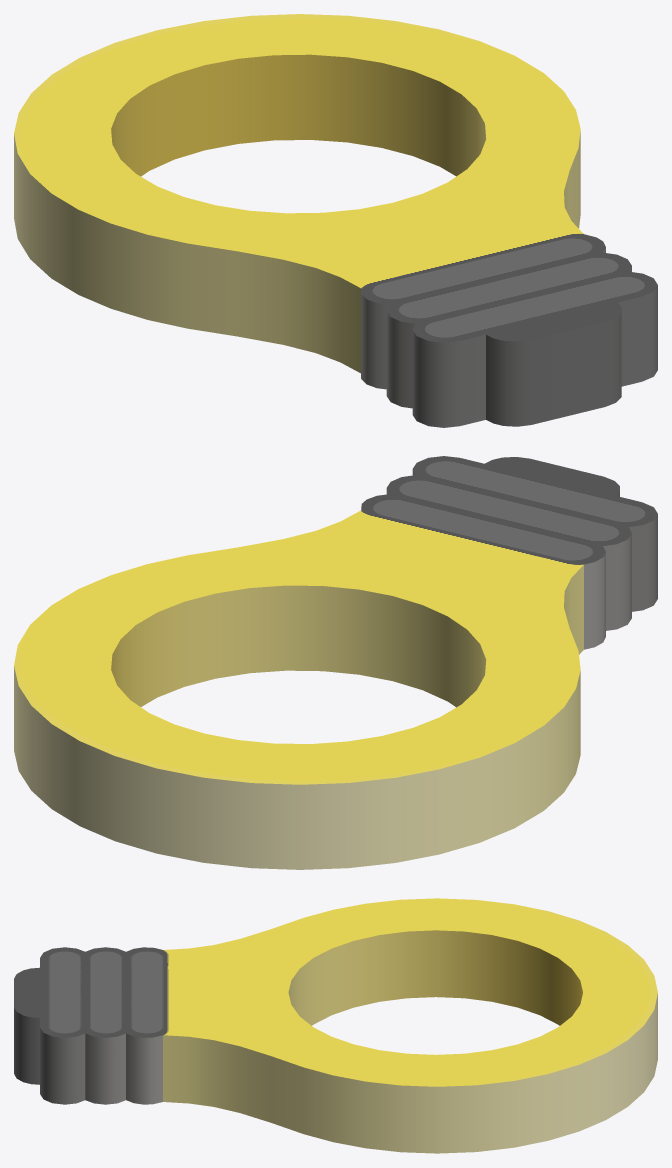
Rendered from lamp.FBX.
3 renders of one model, top to bottom at view 1: azimuth 30°, elevation 25°; view 2: azimuth 150°, elevation 25°; view 3: azimuth 270°, elevation 25°, orthographic. The views are drawn at different scales.
Visible parts, largest first — view 1: Lamp; view 2: Lamp; view 3: Lamp.
Boxes of the visible parts, x1,y1,x2,y2 form: Lamp: (14, 14, 657, 427); Lamp: (14, 456, 657, 869); Lamp: (14, 898, 657, 1153).
Size of the model in its own units: 42.37 by 7 by 61.2.
1 material, 1 textured.
